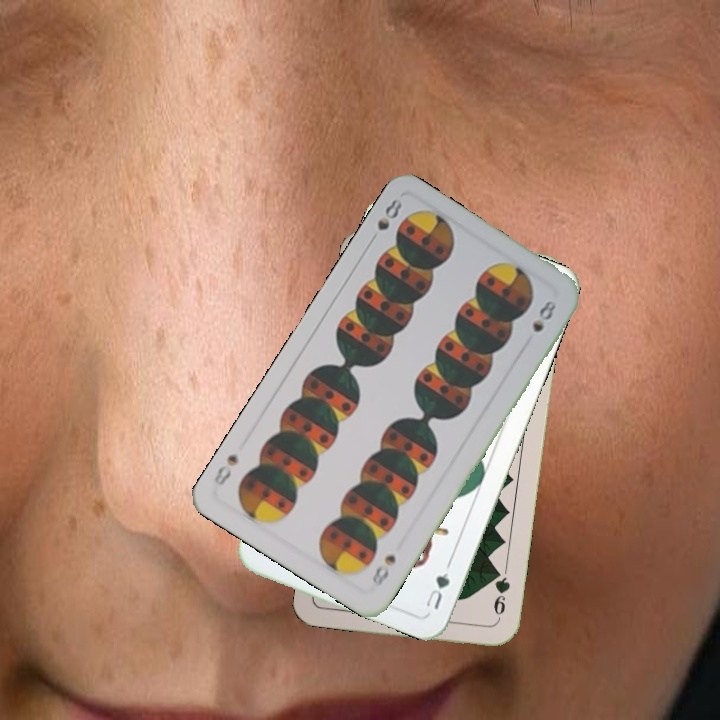G9: (490, 564, 513, 624)
GU: (422, 559, 454, 612)
S8: (364, 194, 405, 247), (367, 550, 399, 590)
